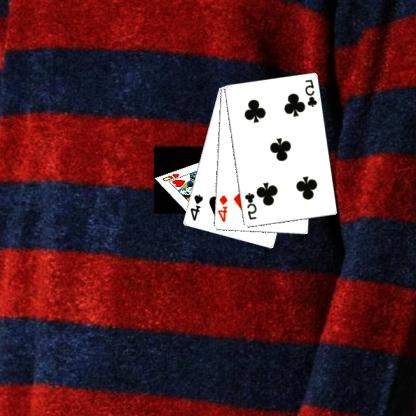4D: (217, 193, 230, 223)
4S: (189, 192, 206, 222)
5C: (244, 191, 260, 222), (304, 77, 320, 108)
